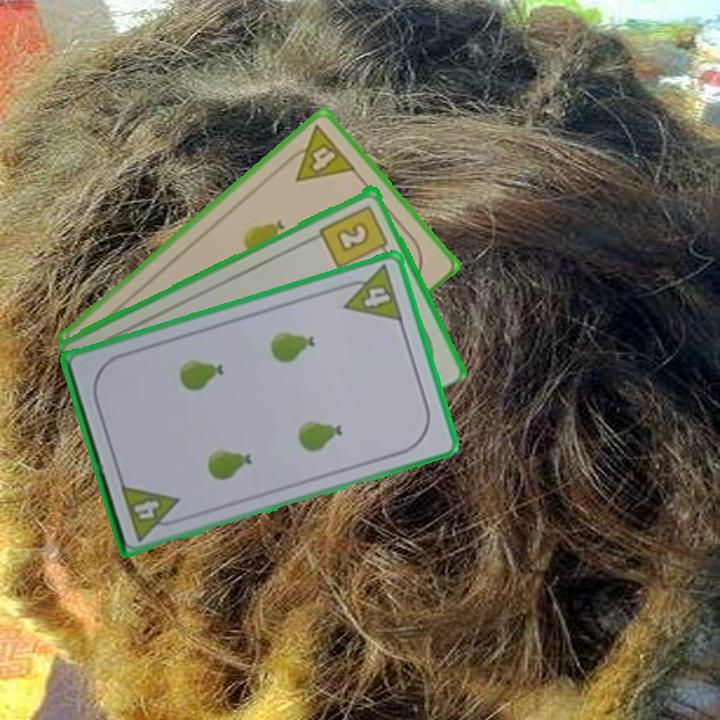2b: (316, 201, 392, 271)
4p: (278, 121, 359, 185), (335, 261, 406, 325), (117, 480, 186, 544)
